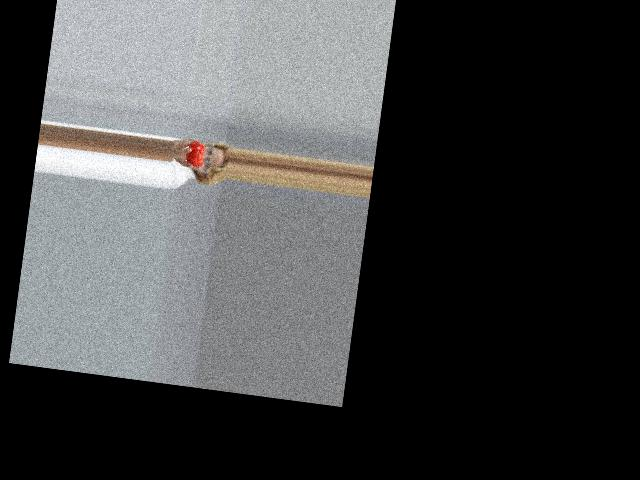tomato: (184, 141, 205, 168)
